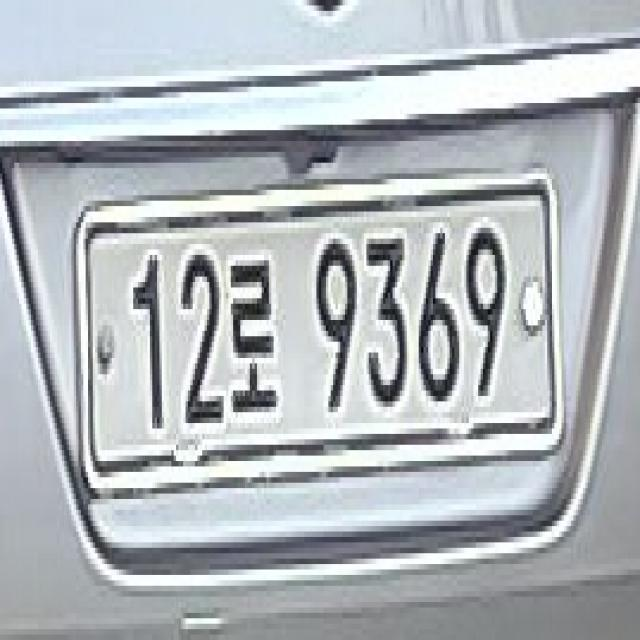1: (129, 238, 176, 456)
2: (178, 238, 228, 444)
3: (362, 228, 412, 423)
6: (414, 222, 464, 412)
9: (462, 212, 509, 412), (314, 228, 359, 428)
license_plate: (74, 158, 568, 516)
lo: (226, 238, 286, 428)
